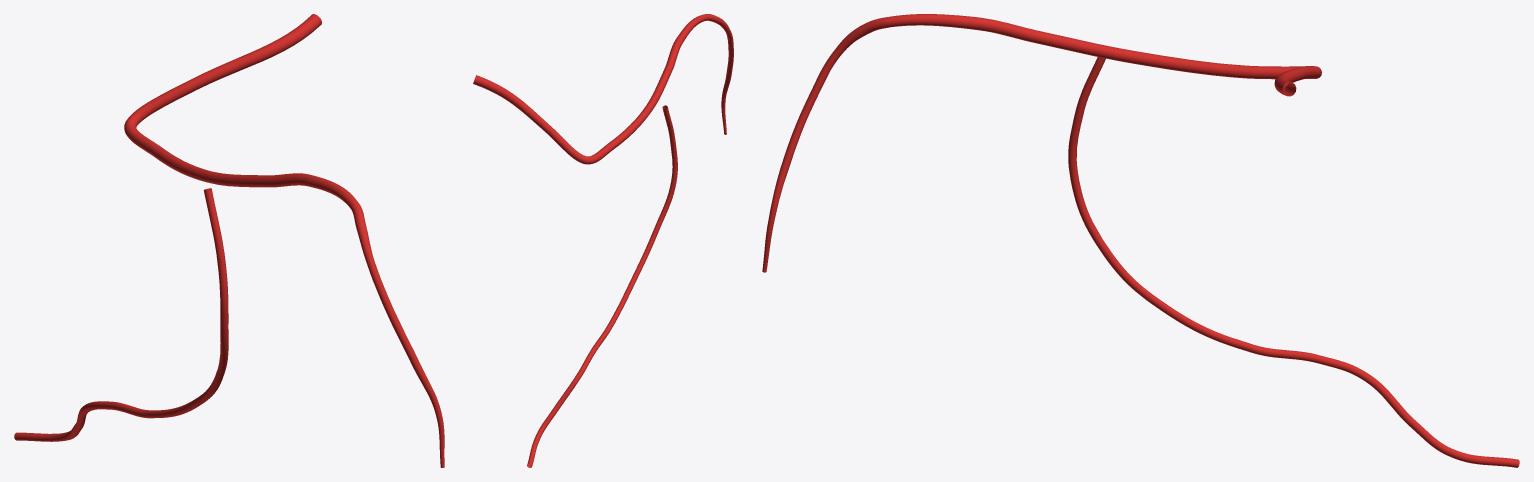
The model's file is circulatorio-anterior-ethmoidal-artery-l.glb.
3 renders of one model, left to right at view 1: azimuth 30°, elevation 25°; view 2: azimuth 150°, elevation 25°; view 3: azimuth 270°, elevation 25°, orthographic. The views are drawn at different scales.
Visible parts, largest first — view 1: Anterior ethmoidal artery.l, Anterior septal branches of anterior ethmoidal artery.l; view 2: Anterior ethmoidal artery.l, Anterior septal branches of anterior ethmoidal artery.l; view 3: Anterior ethmoidal artery.l, Anterior septal branches of anterior ethmoidal artery.l.
Boxes of the visible parts, <box> form: Anterior ethmoidal artery.l: <box>124,14,444,467</box>; Anterior septal branches of anterior ethmoidal artery.l: <box>14,188,228,441</box>; Anterior ethmoidal artery.l: <box>473,14,733,164</box>; Anterior septal branches of anterior ethmoidal artery.l: <box>527,105,677,467</box>; Anterior ethmoidal artery.l: <box>762,14,1321,272</box>; Anterior septal branches of anterior ethmoidal artery.l: <box>1068,57,1519,467</box>.
Size of the model in its own units: 0.0115 by 0.025 by 0.0355.
